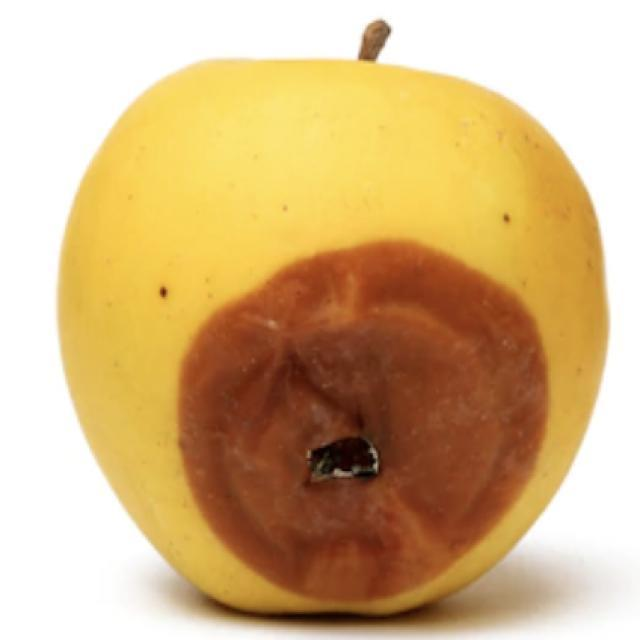Rotten: (74, 82, 584, 625)
